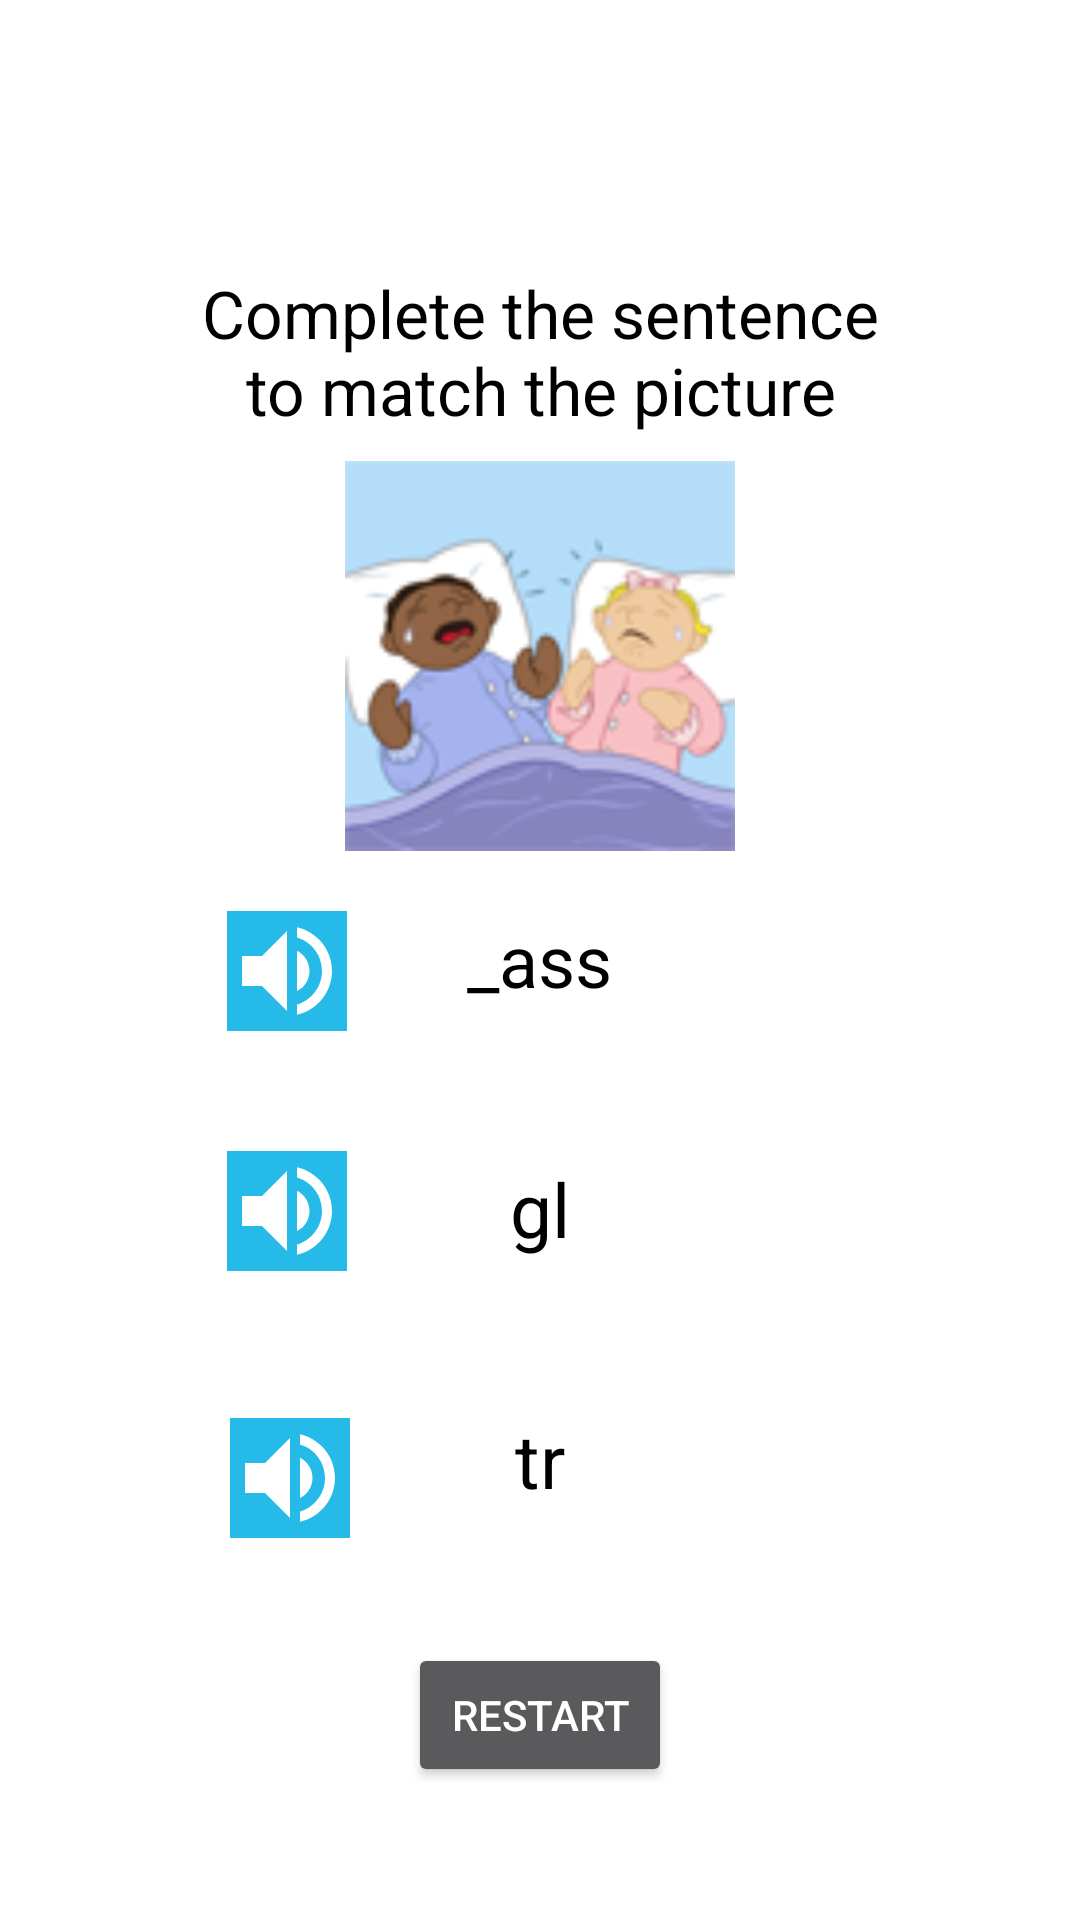

Where to tap for icons on this 1080*1920 app screen, as (x=x, y=y):
volume up: (x=287, y=971), (x=287, y=1211), (x=290, y=1478)
